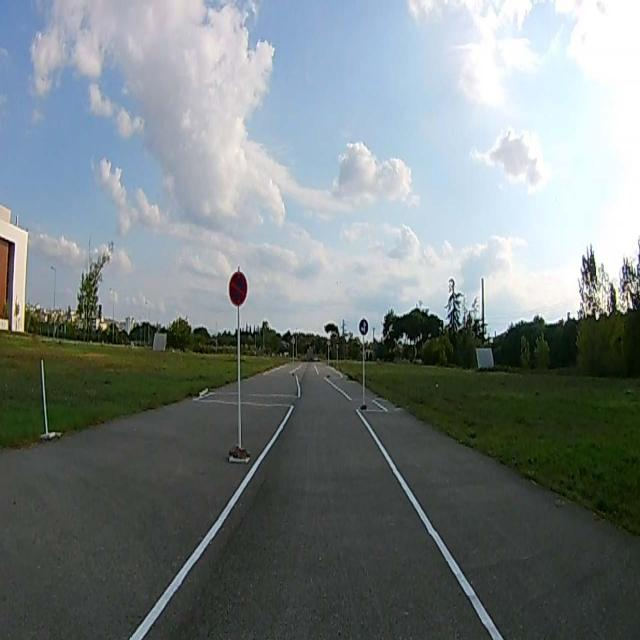parkyasak: (228, 271, 247, 305)
